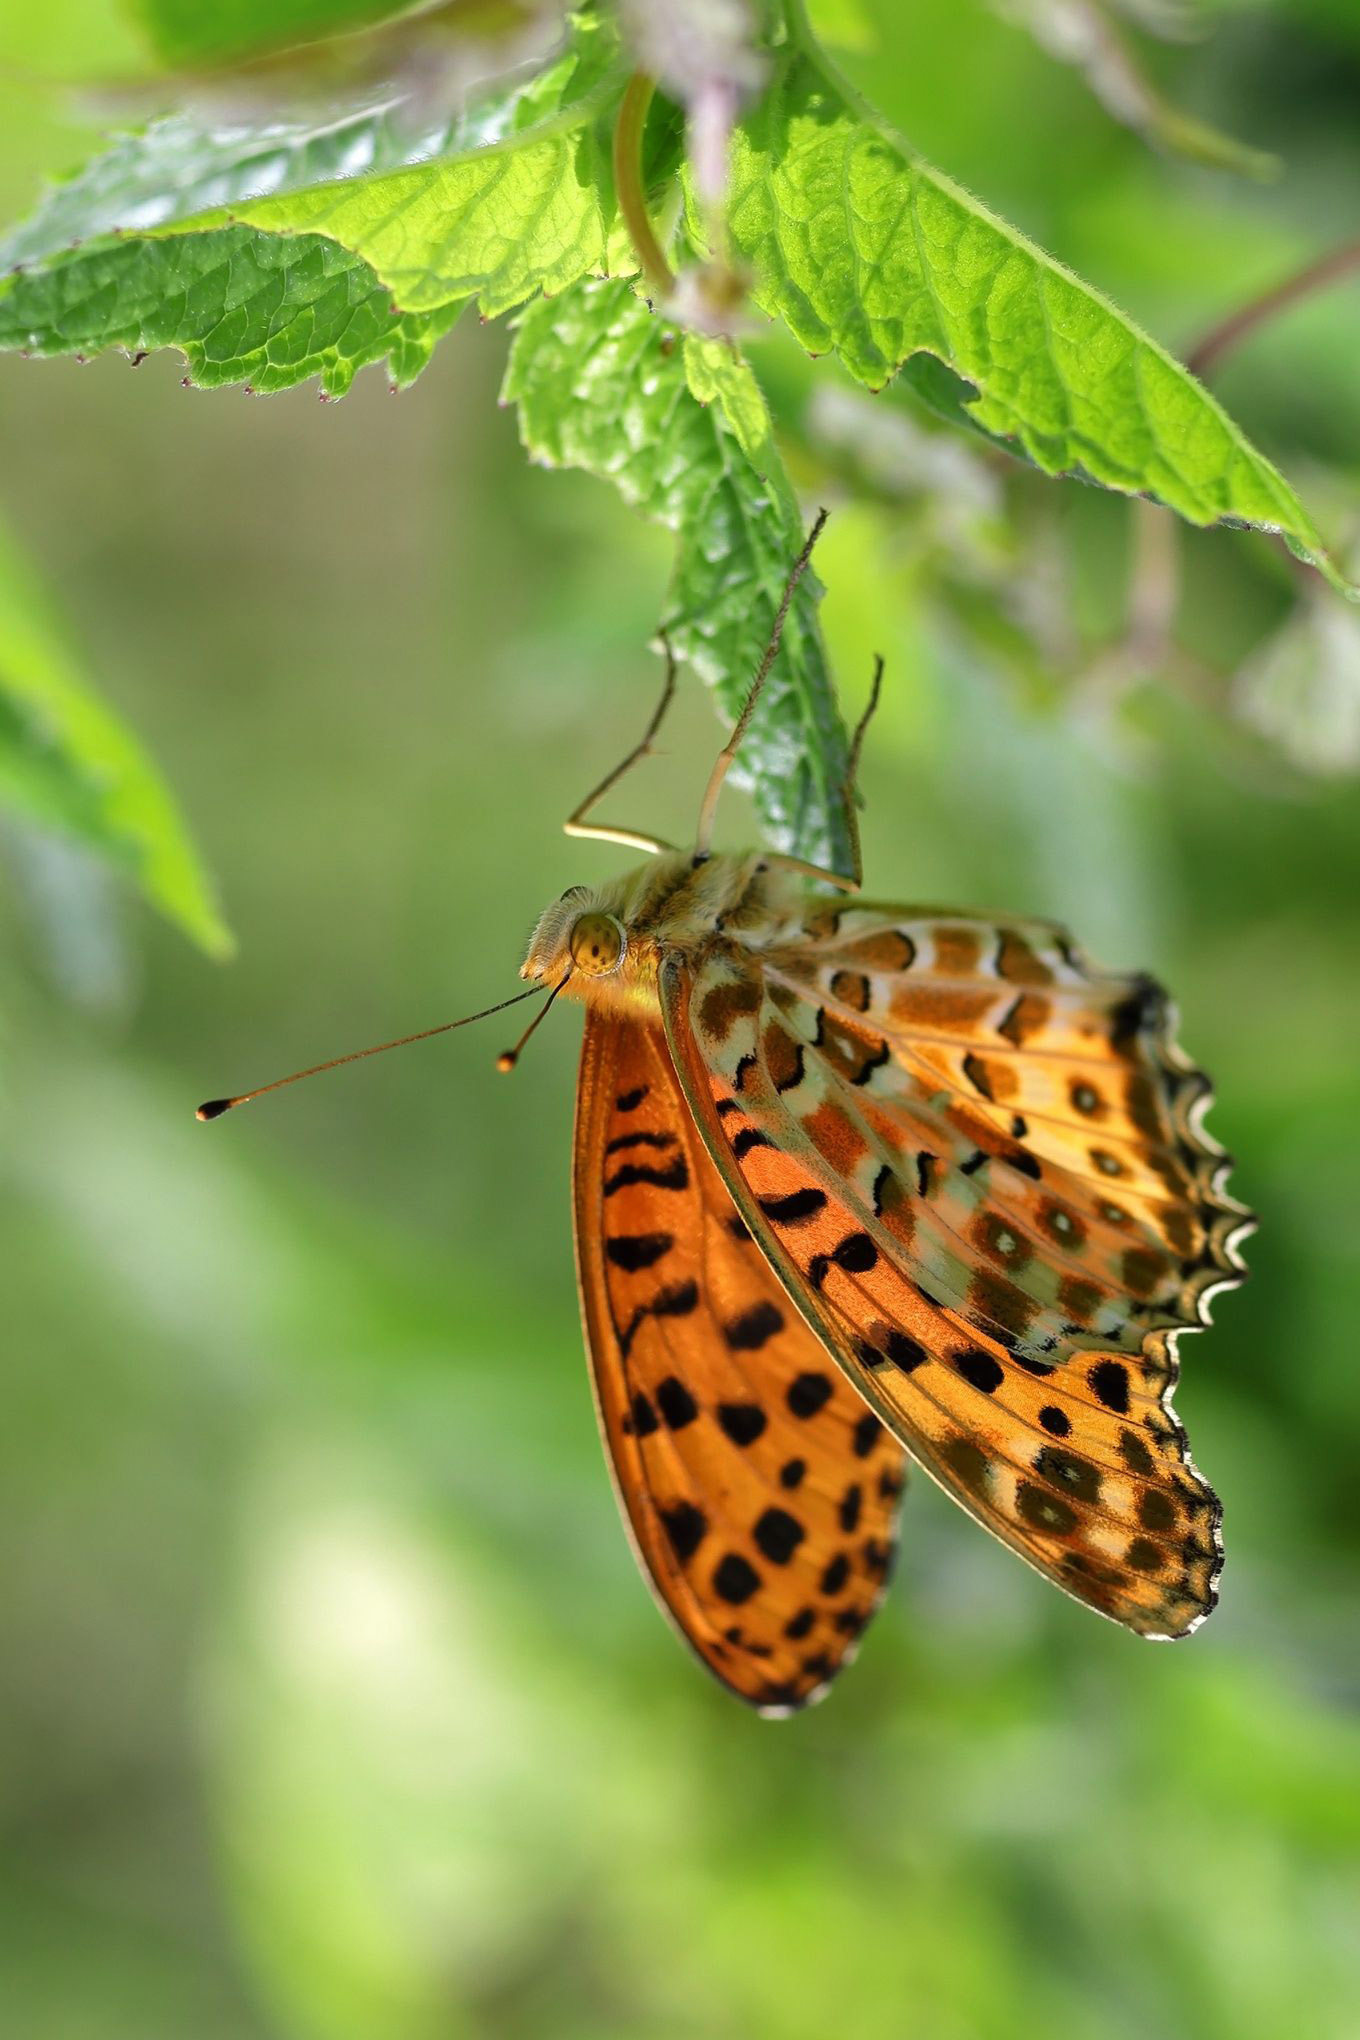Argyreus hyperbius: (164, 496, 1257, 1732)
butterfly: (165, 498, 1258, 1733)
